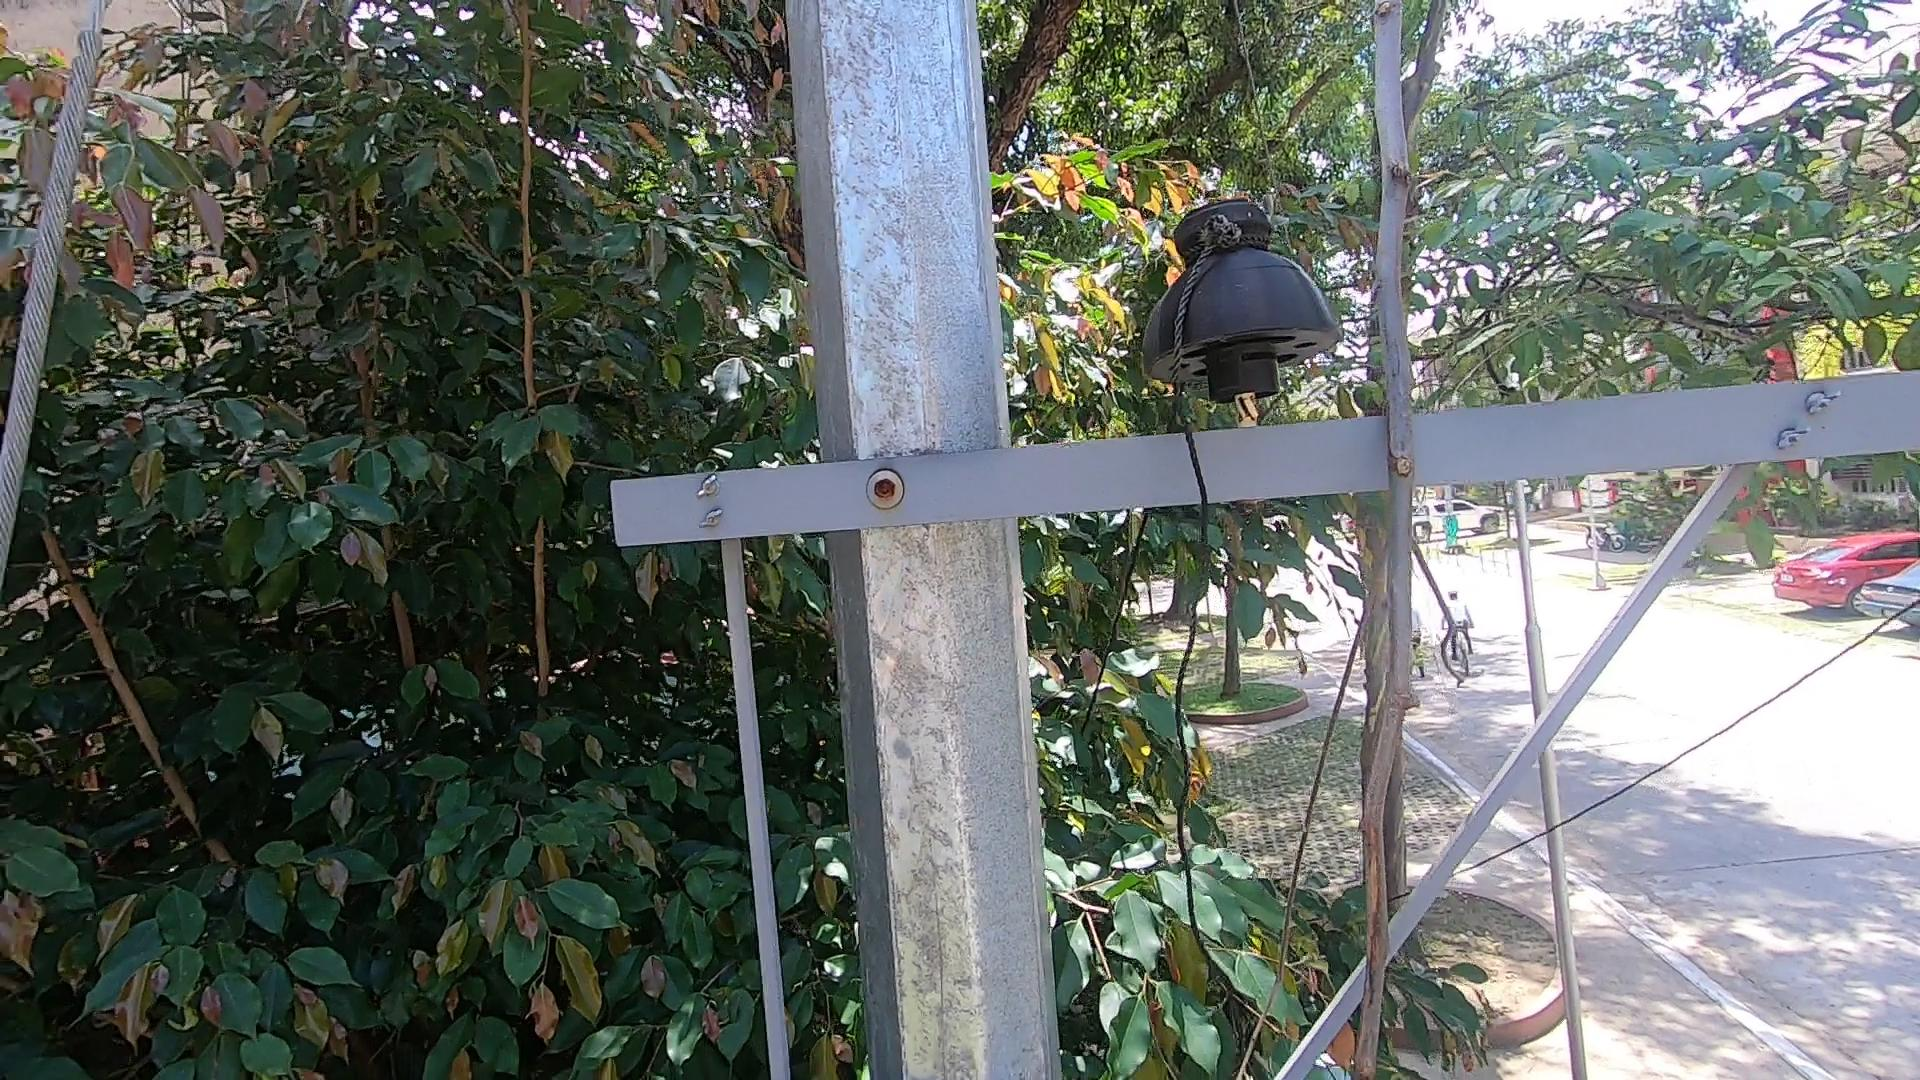tree branch: (1298, 7, 1476, 1062)
